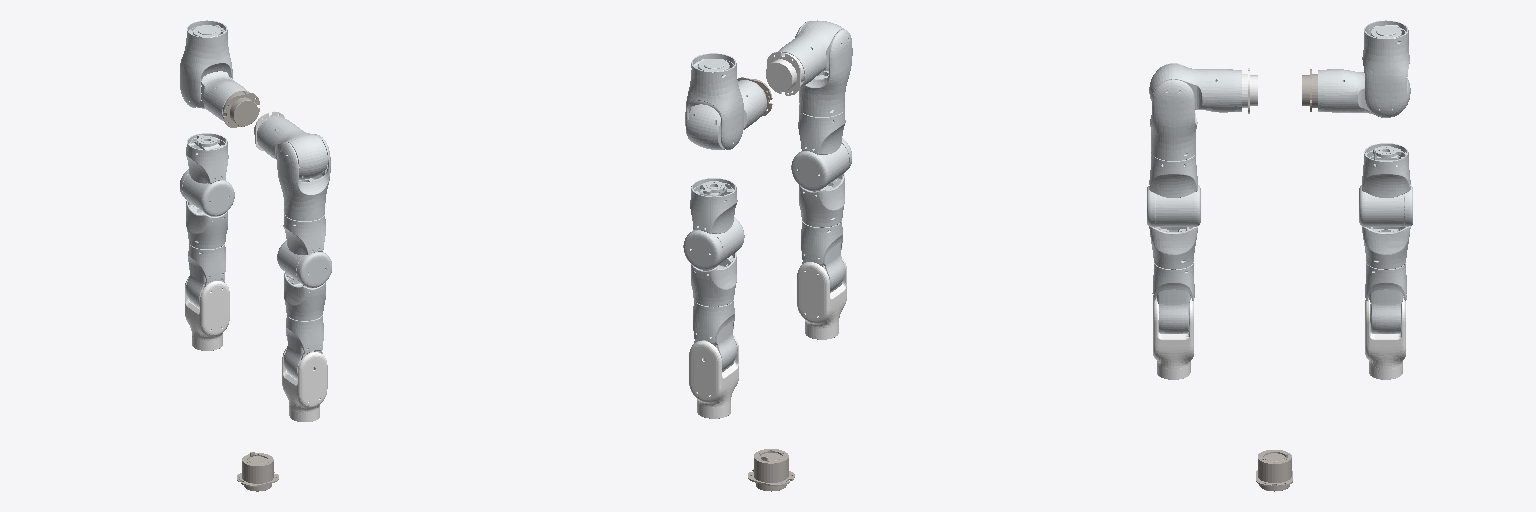
The robot description file, URDF, robot "A1_dual":
<?xml version="1.0" encoding="utf-8"?>
<!-- This URDF was automatically created by SolidWorks to URDF Exporter! Originally created by Stephen Brawner (brawner@gmail.com) 
     Commit Version: 1.6.0-4-g7f85cfe  Build Version: 1.6.7995.38578
     For more information, please see http://wiki.ros.org/sw_urdf_exporter -->
<robot
  name="A1_dual">
  <mujoco>
    <compiler meshdir="../../meshes/A1_dual/" balanceinertia="true" discardvisual="false" />
  </mujoco>

  <!-- Virtual root link for KDL compatibility -->
  <link name="world"/>

  <!-- Virtual root joint -->
  <joint name="world_to_base" type="fixed">
    <parent link="world"/>
    <child link="base_link"/>
    <origin xyz="0 0 0" rpy="0 0 0"/>
  </joint>

  <link
    name="base_link">
    <inertial>
      <origin
        xyz="0.0010220177563175 0.0098303072982387 0.183397090016791"
        rpy="0 0 0" />
      <mass
        value="64.4643570459224" />
      <inertia
        ixx="4.29797927001766"
        ixy="7.03998162475598E-07"
        ixz="-0.00276639447242792"
        iyy="3.97809452117849"
        iyz="-1.5197115178996E-07"
        izz="0.744626161704809" />
    </inertial>
    <visual>
      <origin
        xyz="0 0 0"
        rpy="0 0 0" />
      <geometry>
        <mesh
          filename="package://onero_description/meshes/A1_dual/base_link.STL" />
      </geometry>
      <material
        name="">
        <color
          rgba="0.776470588235294 0.756862745098039 0.737254901960784 1" />
      </material>
    </visual>
    <collision>
      <origin
        xyz="0 0 0"
        rpy="0 0 0" />
      <geometry>
        <mesh
          filename="package://onero_description/meshes/A1_dual/base_link.STL" />
      </geometry>
    </collision>
  </link>
  <link
    name="right_base_link">
    <inertial>
      <origin
        xyz="-2.13344287977907E-05 -5.52115991738867E-05 0.0171427944780142"
        rpy="0 0 0" />
      <mass
        value="0.401649629361067" />
      <inertia
        ixx="0.000237179582900665"
        ixy="-1.22282445342032E-07"
        ixz="-1.58190141064159E-07"
        iyy="0.000248235159238422"
        iyz="7.93479798945356E-07"
        izz="0.000305121782839553" />
    </inertial>
    <visual>
      <origin
        xyz="0 0 0"
        rpy="0 0 0" />
      <geometry>
        <mesh
          filename="package://onero_description/meshes/A1_dual/Link_base_R.STL" />
      </geometry>
      <material
        name="">
        <color
          rgba="1 1 1 1" />
      </material>
    </visual>
    <collision>
      <origin
        xyz="0 0 0"
        rpy="0 0 0" />
      <geometry>
        <mesh
          filename="package://onero_description/meshes/A1_dual/Link_base_R.STL" />
      </geometry>
    </collision>
  </link>
  <joint
    name="joint_base_R"
    type="fixed">
    <origin
      xyz="0.00129998788592377 -0.0461696962244978 0.786817651368381"
      rpy="1.5707963267949 -1.5707963267949 0" />
    <parent
      link="base_link" />
    <child
      link="right_base_link" />
    <axis
      xyz="0 0 0" />
  </joint>
  <link
    name="right_link1">
    <inertial>
      <origin
        xyz="0.000528701384746212 0.000691059523307229 0.0930148088752137"
        rpy="0 0 0" />
      <mass
        value="0.445123480651538" />
      <inertia
        ixx="0.000620269005945169"
        ixy="-1.7829181721352E-07"
        ixz="1.39375528170229E-07"
        iyy="0.000515290876046097"
        iyz="-3.68477334539704E-05"
        izz="0.00025747618201433" />
    </inertial>
    <visual>
      <origin
        xyz="0 0 0"
        rpy="0 0 0" />
      <geometry>
        <mesh
          filename="package://onero_description/meshes/A1_dual/Link_R1.STL" />
      </geometry>
      <material
        name="">
        <color
          rgba="0.898039215686275 0.917647058823529 0.929411764705882 1" />
      </material>
    </visual>
    <collision>
      <origin
        xyz="0 0 0"
        rpy="0 0 0" />
      <geometry>
        <mesh
          filename="package://onero_description/meshes/A1_dual/Link_R1.STL" />
      </geometry>
    </collision>
  </link>
  <joint
    name="joint1-a1_r"
    type="revolute">
    <origin
      xyz="0 0 0.0125"
      rpy="0 0 0" />
    <parent
      link="right_base_link" />
    <child
      link="right_link1" />
    <axis
      xyz="0 0 1" />
    <limit
      lower="-1.0472"
      upper="3.1416"
      effort="0"
      velocity="0" />
  </joint>
  <link
    name="right_link2">
    <inertial>
      <origin
        xyz="-4.79251882686271E-05 -0.0610748205842253 0.00491189316430291"
        rpy="0 0 0" />
      <mass
        value="0.387804299075862" />
      <inertia
        ixx="0.000597196184278382"
        ixy="-8.33624572900867E-07"
        ixz="1.418887040585E-08"
        iyy="0.000348285614510568"
        iyz="-2.93681671030129E-05"
        izz="0.000403678012606387" />
    </inertial>
    <visual>
      <origin
        xyz="0 0 0"
        rpy="0 0 0" />
      <geometry>
        <mesh
          filename="package://onero_description/meshes/A1_dual/Link_R2.STL" />
      </geometry>
      <material
        name="">
        <color
          rgba="0.898039215686275 0.917647058823529 0.929411764705882 1" />
      </material>
    </visual>
    <collision>
      <origin
        xyz="0 0 0"
        rpy="0 0 0" />
      <geometry>
        <mesh
          filename="package://onero_description/meshes/A1_dual/Link_R2.STL" />
      </geometry>
    </collision>
  </link>
  <joint
    name="joint2-a1_r"
    type="revolute">
    <origin
      xyz="0 0 0.12744999999996"
      rpy="1.57079632679508 1.5707963267949 0" />
    <parent
      link="right_link1" />
    <child
      link="right_link2" />
    <axis
      xyz="0 0 1" />
    <limit
      lower="-3.1416"
      upper="0.2618"
      effort="0"
      velocity="0" />
  </joint>
  <link
    name="right_link3">
    <inertial>
      <origin
        xyz="-1.41791339719967E-05 -0.00178417845474385 0.109669668671437"
        rpy="0 0 0" />
      <mass
        value="0.407125793860475" />
      <inertia
        ixx="0.000446520666223513"
        ixy="-1.52102569119989E-08"
        ixz="-1.60234361204651E-07"
        iyy="0.000343044759489895"
        iyz="1.30123273479532E-05"
        izz="0.000286204871786059" />
    </inertial>
    <visual>
      <origin
        xyz="0 0 0"
        rpy="0 0 0" />
      <geometry>
        <mesh
          filename="package://onero_description/meshes/A1_dual/Link_R3.STL" />
      </geometry>
      <material
        name="">
        <color
          rgba="0.898039215686275 0.917647058823529 0.929411764705882 1" />
      </material>
    </visual>
    <collision>
      <origin
        xyz="0 0 0"
        rpy="0 0 0" />
      <geometry>
        <mesh
          filename="package://onero_description/meshes/A1_dual/Link_R3.STL" />
      </geometry>
    </collision>
  </link>
  <joint
    name="joint3-a1_r"
    type="revolute">
    <origin
      xyz="0 -0.0932500000000608 0"
      rpy="1.57079632679489 -1.5707963267949 0" />
    <parent
      link="right_link2" />
    <child
      link="right_link3" />
    <axis
      xyz="0 0 1" />
    <limit
      lower="-2.7576"
      upper="2.7576"
      effort="0"
      velocity="0" />
  </joint>
  <link
    name="right_link4">
    <inertial>
      <origin
        xyz="4.77747493508683E-07 -0.0625047132426329 0.00555704355217515"
        rpy="0 0 0" />
      <mass
        value="0.252142897287996" />
      <inertia
        ixx="0.000178779070302145"
        ixy="-6.97347608629508E-09"
        ixz="7.78466981652122E-10"
        iyy="0.000146134678627411"
        iyz="-3.30147349555166E-05"
        izz="0.000165597697715162" />
    </inertial>
    <visual>
      <origin
        xyz="0 0 0"
        rpy="0 0 0" />
      <geometry>
        <mesh
          filename="package://onero_description/meshes/A1_dual/Link_R4.STL" />
      </geometry>
      <material
        name="">
        <color
          rgba="0.898039215686275 0.917647058823529 0.929411764705882 1" />
      </material>
    </visual>
    <collision>
      <origin
        xyz="0 0 0"
        rpy="0 0 0" />
      <geometry>
        <mesh
          filename="package://onero_description/meshes/A1_dual/Link_R4.STL" />
      </geometry>
    </collision>
  </link>
  <joint
    name="joint4-a1_r"
    type="revolute">
    <origin
      xyz="0 0.000999999998782225 0.140250000000101"
      rpy="-1.5707963267895 0 0" />
    <parent
      link="right_link3" />
    <child
      link="right_link4" />
    <axis
      xyz="0 0 1" />
    <limit
      lower="-1.9199"
      upper="1.9199"
      effort="0"
      velocity="0" />
  </joint>
  <link
    name="right_link5">
    <inertial>
      <origin
        xyz="-2.15115908300036E-06 -0.000940016433332608 0.0983077058854084"
        rpy="0 0 0" />
      <mass
        value="0.333954018530655" />
      <inertia
        ixx="0.000324220055891183"
        ixy="-1.16857830776577E-09"
        ixz="7.2095952729132E-08"
        iyy="0.00029907861347288"
        iyz="-5.79215640631209E-06"
        izz="0.00016124141970014" />
    </inertial>
    <visual>
      <origin
        xyz="0 0 0"
        rpy="0 0 0" />
      <geometry>
        <mesh
          filename="package://onero_description/meshes/A1_dual/Link_R5.STL" />
      </geometry>
      <material
        name="">
        <color
          rgba="0.898039215686275 0.917647058823529 0.929411764705882 1" />
      </material>
    </visual>
    <collision>
      <origin
        xyz="0 0 0"
        rpy="0 0 0" />
      <geometry>
        <mesh
          filename="package://onero_description/meshes/A1_dual/Link_R5.STL" />
      </geometry>
    </collision>
  </link>
  <joint
    name="joint5-a1_r"
    type="revolute">
    <origin
      xyz="0 -0.0879999999845006 -0.000999999994519968"
      rpy="1.57079632680022 0 0" />
    <parent
      link="right_link4" />
    <child
      link="right_link5" />
    <axis
      xyz="0 0 1" />
    <limit
      lower="-2.7576"
      upper="2.7576"
      effort="0"
      velocity="0" />
  </joint>
  <link
    name="right_link6">
    <inertial>
      <origin
        xyz="1.41062096566495E-05 0.0616500031920713 0.00517126125253364"
        rpy="0 0 0" />
      <mass
        value="0.289938829856114" />
      <inertia
        ixx="0.00034657832636577"
        ixy="-3.69437698963052E-07"
        ixz="-1.71696816370923E-07"
        iyy="0.000183154986527696"
        iyz="3.25615224510484E-05"
        izz="0.000268358656569823" />
    </inertial>
    <visual>
      <origin
        xyz="0 0 0"
        rpy="0 0 0" />
      <geometry>
        <mesh
          filename="package://onero_description/meshes/A1_dual/Link_R6.STL" />
      </geometry>
      <material
        name="">
        <color
          rgba="1 1 1 1" />
      </material>
    </visual>
    <collision>
      <origin
        xyz="0 0 0"
        rpy="0 0 0" />
      <geometry>
        <mesh
          filename="package://onero_description/meshes/A1_dual/Link_R6.STL" />
      </geometry>
    </collision>
  </link>
  <joint
    name="joint6-a1_r"
    type="revolute">
    <origin
      xyz="0 -0.000500000006067092 0.13300000000003"
      rpy="1.57079632679516 0 0" />
    <parent
      link="right_link5" />
    <child
      link="right_link6" />
    <axis
      xyz="0 0 1" />
    <limit
      lower="-1.5708"
      upper="1.5708"
      effort="0"
      velocity="0" />
  </joint>
  <link
    name="right_link7">
    <inertial>
      <origin
        xyz="5.62946092910809E-10 -0.00220209359026055 0.00293052216882428"
        rpy="0 0 0" />
      <mass
        value="0.0177506427123713" />
      <inertia
        ixx="2.81905933094716E-06"
        ixy="5.7641533455085E-14"
        ixz="-2.02460067044014E-14"
        iyy="1.8945343219885E-06"
        iyz="2.22911768335107E-09"
        izz="4.6099418954554E-06" />
    </inertial>
    <visual>
      <origin
        xyz="0 0 0"
        rpy="0 0 0" />
      <geometry>
        <mesh
          filename="package://onero_description/meshes/A1_dual/Link_R7.STL" />
      </geometry>
      <material
        name="">
        <color
          rgba="0.898039215686275 0.917647058823529 0.929411764705882 1" />
      </material>
    </visual>
    <collision>
      <origin
        xyz="0 0 0"
        rpy="0 0 0" />
      <geometry>
        <mesh
          filename="package://onero_description/meshes/A1_dual/Link_R7.STL" />
      </geometry>
    </collision>
  </link>
  <joint
    name="joint7-a1_r"
    type="revolute">
    <origin
      xyz="0 0.111999999999958 -0.000500000000028034"
      rpy="1.5708 0 3.1416" />
    <parent
      link="right_link6" />
    <child
      link="right_link7" />
    <axis
      xyz="0 0 1" />
    <limit
      lower="-2.7576"
      upper="2.7576"
      effort="0"
      velocity="0" />
  </joint>
  <link
    name="left_base_link">
    <inertial>
      <origin
        xyz="-2.12826196715591E-05 5.52026218803445E-05 0.0171427754448579"
        rpy="0 0 0" />
      <mass
        value="0.401650168942009" />
      <inertia
        ixx="0.000237179758518644"
        ixy="1.22424408205499E-07"
        ixz="-1.57836402935085E-07"
        iyy="0.00024823611761246"
        iyz="-7.93541349372777E-07"
        izz="0.000305122605170233" />
    </inertial>
    <visual>
      <origin
        xyz="0 0 0"
        rpy="3.14159265358979 0 0" />
      <geometry>
        <mesh
          filename="package://onero_description/meshes/A1_dual/Link_base_L.STL" />
      </geometry>
      <material
        name="">
        <color
          rgba="0.776470588235294 0.756862745098039 0.737254901960784 1" />
      </material>
    </visual>
    <collision>
      <origin
        xyz="0 0 0"
        rpy="3.14159265358979 0 0" />
      <geometry>
        <mesh
          filename="package://onero_description/meshes/A1_dual/Link_base_L.STL" />
      </geometry>
    </collision>
  </link>
  <joint
    name="joint_base_l"
    type="fixed">
    <origin
      xyz="0.00129998788593704 0.0658303037755022 0.786817651368357"
      rpy="1.57079632679502 -1.5707963267949 0" />
    <parent
      link="base_link" />
    <child
      link="left_base_link" />
    <axis
      xyz="0 0 0" />
  </joint>
  <link
    name="left_link1">
    <inertial>
      <origin
        xyz="0.000104793909039569 -0.000878025489583305 0.0937688680157419"
        rpy="0 0 0" />
      <mass
        value="0.438675872181416" />
      <inertia
        ixx="0.00060517294321352"
        ixy="3.14143376862722E-07"
        ixz="-9.46425739217288E-07"
        iyy="0.000501491467720591"
        iyz="3.30016145254686E-05"
        izz="0.00025580993277449" />
    </inertial>
    <visual>
      <origin
        xyz="0 0 0"
        rpy="0 0 0" />
      <geometry>
        <mesh
          filename="package://onero_description/meshes/A1_dual/Link_L1.STL" />
      </geometry>
      <material
        name="">
        <color
          rgba="0.898039215686275 0.917647058823529 0.929411764705882 1" />
      </material>
    </visual>
    <collision>
      <origin
        xyz="0 0 0"
        rpy="0 0 0" />
      <geometry>
        <mesh
          filename="package://onero_description/meshes/A1_dual/Link_L1.STL" />
      </geometry>
    </collision>
  </link>
  <joint
    name="joint1-a1_l"
    type="revolute">
    <origin
      xyz="0 0 -0.01250000000001"
      rpy="3.14159265358979 0 0" />
    <parent
      link="left_base_link" />
    <child
      link="left_link1" />
    <axis
      xyz="0 0 1" />
    <limit
      lower="-3.1416"
      upper="1.0472"
      effort="0"
      velocity="0" />
  </joint>
  <link
    name="left_link2">
    <inertial>
      <origin
        xyz="-4.66303482248853E-05 0.0610765811025605 0.00481122218899703"
        rpy="0 0 0" />
      <mass
        value="0.387770755219132" />
      <inertia
        ixx="0.000597204372907025"
        ixy="8.3676342009039E-07"
        ixz="2.69873967537206E-08"
        iyy="0.000348292487571024"
        iyz="2.93717934653094E-05"
        izz="0.000403661570691348" />
    </inertial>
    <visual>
      <origin
        xyz="0 0 0"
        rpy="0 0 -3.14159265358979" />
      <geometry>
        <mesh
          filename="package://onero_description/meshes/A1_dual/Link_L2.STL" />
      </geometry>
      <material
        name="">
        <color
          rgba="0.898039215686275 0.917647058823529 0.929411764705882 1" />
      </material>
    </visual>
    <collision>
      <origin
        xyz="0 0 0"
        rpy="0 0 -3.14159265358979" />
      <geometry>
        <mesh
          filename="package://onero_description/meshes/A1_dual/Link_L2.STL" />
      </geometry>
    </collision>
  </link>
  <joint
    name="joint2-a1_l"
    type="revolute">
    <origin
      xyz="0 0 0.12744999999999"
      rpy="-1.57079632679478 -1.5707963267949 0" />
    <parent
      link="left_link1" />
    <child
      link="left_link2" />
    <axis
      xyz="0 0 1" />
    <limit
      lower="-0.2618"
      upper="3.1416"
      effort="0"
      velocity="0" />
  </joint>
  <link
    name="left_link3">
    <inertial>
      <origin
        xyz="1.43987309591519E-05 0.00178404133280444 0.109669668659996"
        rpy="0 0 0" />
      <mass
        value="0.407125793506889" />
      <inertia
        ixx="0.000446520666780017"
        ixy="-8.24275545731688E-09"
        ixz="1.61110520939149E-07"
        iyy="0.000343044757246363"
        iyz="-1.30123176926368E-05"
        izz="0.000286204871222088" />
    </inertial>
    <visual>
      <origin
        xyz="0 0 0"
        rpy="0 0 0" />
      <geometry>
        <mesh
          filename="package://onero_description/meshes/A1_dual/Link_L3.STL" />
      </geometry>
      <material
        name="">
        <color
          rgba="0.898039215686275 0.917647058823529 0.929411764705882 1" />
      </material>
    </visual>
    <collision>
      <origin
        xyz="0 0 0"
        rpy="0 0 0" />
      <geometry>
        <mesh
          filename="package://onero_description/meshes/A1_dual/Link_L3.STL" />
      </geometry>
    </collision>
  </link>
  <joint
    name="joint3-a1_l"
    type="revolute">
    <origin
      xyz="0 -0.0932499999999344 -0.000100000000084434"
      rpy="1.5707963267949 -1.5707963267949 0" />
    <parent
      link="left_link2" />
    <child
      link="left_link3" />
    <axis
      xyz="0 0 1" />
    <limit
      lower="-2.7576"
      upper="2.7576"
      effort="0"
      velocity="0" />
  </joint>
  <link
    name="left_link4">
    <inertial>
      <origin
        xyz="-9.99808131922229E-07 0.0625047132640995 0.00555704355349795"
        rpy="0 0 0" />
      <mass
        value="0.252142897202372" />
      <inertia
        ixx="0.000178779070280237"
        ixy="-6.97346977235617E-09"
        ixz="-7.78451594084039E-10"
        iyy="0.000146134678616042"
        iyz="3.30147349592292E-05"
        izz="0.000165597697680657" />
    </inertial>
    <visual>
      <origin
        xyz="0 0 0"
        rpy="0 0 0" />
      <geometry>
        <mesh
          filename="package://onero_description/meshes/A1_dual/Link_L4.STL" />
      </geometry>
      <material
        name="">
        <color
          rgba="0.898039215686275 0.917647058823529 0.929411764705882 1" />
      </material>
    </visual>
    <collision>
      <origin
        xyz="0 0 0"
        rpy="0 0 0" />
      <geometry>
        <mesh
          filename="package://onero_description/meshes/A1_dual/Link_L4.STL" />
      </geometry>
    </collision>
  </link>
  <joint
    name="joint4-a1_l"
    type="revolute">
    <origin
      xyz="0 -0.000999999996676215 0.140249999995695"
      rpy="1.57079632678358 0 6.73358220455809E-05" />
    <parent
      link="left_link3" />
    <child
      link="left_link4" />
    <axis
      xyz="0 0 1" />
    <limit
      lower="-1.9199"
      upper="1.9199"
      effort="0"
      velocity="0" />
  </joint>
  <link
    name="left_link5">
    <inertial>
      <origin
        xyz="2.18196075730452E-06 0.000940045309240328 0.0983077176130554"
        rpy="0 0 0" />
      <mass
        value="0.333953527048094" />
      <inertia
        ixx="0.000324219442352689"
        ixy="-1.17918293650099E-09"
        ixz="-7.21118252753774E-08"
        iyy="0.000299078218859742"
        iyz="5.79241839852753E-06"
        izz="0.000161241194938864" />
    </inertial>
    <visual>
      <origin
        xyz="0 0 0"
        rpy="0 0 0" />
      <geometry>
        <mesh
          filename="package://onero_description/meshes/A1_dual/Link_L5.STL" />
      </geometry>
      <material
        name="">
        <color
          rgba="0.898039215686275 0.917647058823529 0.929411764705882 1" />
      </material>
    </visual>
    <collision>
      <origin
        xyz="0 0 0"
        rpy="0 0 0" />
      <geometry>
        <mesh
          filename="package://onero_description/meshes/A1_dual/Link_L5.STL" />
      </geometry>
    </collision>
  </link>
  <joint
    name="joint5-a1_l"
    type="revolute">
    <origin
      xyz="0 0.08800000000195 -0.00100000000141642"
      rpy="-1.57079632679444 0 0" />
    <parent
      link="left_link4" />
    <child
      link="left_link5" />
    <axis
      xyz="0 0 1" />
    <limit
      lower="-2.7576"
      upper="2.7576"
      effort="0"
      velocity="0" />
  </joint>
  <link
    name="left_link6">
    <inertial>
      <origin
        xyz="-1.41083577817339E-05 -0.0616500007995244 0.00592126579529165"
        rpy="0 0 0" />
      <mass
        value="0.289938784030602" />
      <inertia
        ixx="0.000346578289751858"
        ixy="-3.69413598783459E-07"
        ixz="1.71707544035286E-07"
        iyy="0.000183154957190632"
        iyz="-3.25615027135764E-05"
        izz="0.000268358636842125" />
    </inertial>
    <visual>
      <origin
        xyz="0 0 0"
        rpy="0 0 0" />
      <geometry>
        <mesh
          filename="package://onero_description/meshes/A1_dual/Link_L6.STL" />
      </geometry>
      <material
        name="">
        <color
          rgba="1 1 1 1" />
      </material>
    </visual>
    <collision>
      <origin
        xyz="0 0 0"
        rpy="0 0 0" />
      <geometry>
        <mesh
          filename="package://onero_description/meshes/A1_dual/Link_L6.STL" />
      </geometry>
    </collision>
  </link>
  <joint
    name="joint6-a1_l"
    type="revolute">
    <origin
      xyz="0 0.000499999999968581 0.133000000000029"
      rpy="-1.57079632679557 0 0" />
    <parent
      link="left_link5" />
    <child
      link="left_link6" />
    <axis
      xyz="0 0 1" />
    <limit
      lower="-1.5708"
      upper="1.5708"
      effort="0"
      velocity="0" />
  </joint>
  <link
    name="left_link7">
    <inertial>
      <origin
        xyz="6.65807920271653E-10 -0.00220208936547997 0.00293052049190778"
        rpy="0 0 0" />
      <mass
        value="0.017750642712371" />
      <inertia
        ixx="2.81905933094713E-06"
        ixy="5.7633025928465E-14"
        ixz="-2.02477989966484E-14"
        iyy="1.89453432186468E-06"
        iyz="2.22904228611338E-09"
        izz="4.60994189557911E-06" />
    </inertial>
    <visual>
      <origin
        xyz="0 0 0"
        rpy="0 0 0" />
      <geometry>
        <mesh
          filename="package://onero_description/meshes/A1_dual/Link_L7.STL" />
      </geometry>
      <material
        name="">
        <color
          rgba="0.898039215686275 0.917647058823529 0.929411764705882 1" />
      </material>
    </visual>
    <collision>
      <origin
        xyz="0 0 0"
        rpy="0 0 0" />
      <geometry>
        <mesh
          filename="package://onero_description/meshes/A1_dual/Link_L7.STL" />
      </geometry>
    </collision>
  </link>
  <joint
    name="joint7-a1_l"
    type="revolute">
    <origin
      xyz="0 -0.11200000000003 0.000249999999859224"
      rpy="1.5708 6.7336E-05 0" />
    <parent
      link="left_link6" />
    <child
      link="left_link7" />
    <axis
      xyz="0 0 1" />
    <limit
      lower="-2.7576"
      upper="2.7576"
      effort="0"
      velocity="0" />
  </joint>
</robot>

--- What the picture shows (computed from the rendered views, not written in the file) ---
The picture shows the robot from 3 angles, left to right: view 1: azimuth 30°, elevation 25°; view 2: azimuth 150°, elevation 25°; view 3: azimuth 270°, elevation 25°; orthographic projection.
Robot: A1_dual — 18 links, 17 joints (14 revolute, 3 fixed); root link world; default pose: every joint at zero.
Visible links, largest first — view 1: left_link3, left_link2, right_link2, right_link4, right_link1, right_link6, left_link6, right_link3, left_link5, right_link5, left_link4, left_link1 (+2 smaller); view 2: left_link2, right_link3, left_link4, left_link3, left_link6, right_link6, right_link2, left_link1, right_link1, right_link5, left_link5, right_link4 (+2 smaller); view 3: left_link2, left_link3, right_link2, right_link3, right_link1, left_link5, right_link5, left_link1, right_link4, left_link4, right_link6, left_link6 (+3 smaller).
Link boxes in pixels (<box>): left_link3: <box>182,133,234,216</box>; left_link2: <box>180,20,232,107</box>; right_link2: <box>277,134,330,220</box>; right_link4: <box>284,252,331,320</box>; right_link1: <box>257,116,327,179</box>; right_link6: <box>282,348,327,421</box>; left_link6: <box>185,277,229,350</box>; right_link3: <box>277,213,325,281</box>; left_link5: <box>186,244,225,306</box>; right_link5: <box>284,315,323,378</box>; left_link4: <box>180,169,227,248</box>; left_link1: <box>197,71,249,122</box>; left_link2: <box>685,53,743,149</box>; right_link3: <box>791,109,848,190</box>; left_link4: <box>683,230,736,306</box>; left_link3: <box>690,178,744,263</box>; left_link6: <box>689,335,738,418</box>; right_link6: <box>797,256,846,339</box>; right_link2: <box>795,21,852,116</box>; left_link1: <box>686,80,766,149</box>; right_link1: <box>778,20,843,87</box>; right_link5: <box>801,221,845,291</box>; left_link5: <box>693,300,736,370</box>; right_link4: <box>799,138,851,227</box>; left_link2: <box>1362,20,1409,117</box>; left_link3: <box>1359,143,1410,226</box>; right_link2: <box>1150,63,1197,160</box>; right_link3: <box>1149,152,1200,226</box>; right_link1: <box>1149,64,1241,112</box>; left_link5: <box>1365,262,1406,333</box>; right_link5: <box>1152,262,1194,333</box>; left_link1: <box>1318,69,1410,117</box>; right_link4: <box>1147,186,1197,269</box>; left_link4: <box>1362,186,1412,269</box>; right_link6: <box>1153,298,1193,379</box>; left_link6: <box>1365,298,1405,379</box>.
Bounding box of the posed robot: 0.098 × 0.4917 × 0.9268 m (x, y, z).
Meshes: 17 distinct files referenced, 15 mesh visuals loaded (15 binary STL); not drawn: 2 (reference not matched to a file when rendering).
